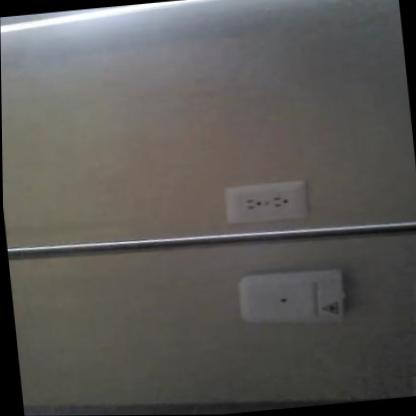OUTLET: (222, 180, 308, 226)
